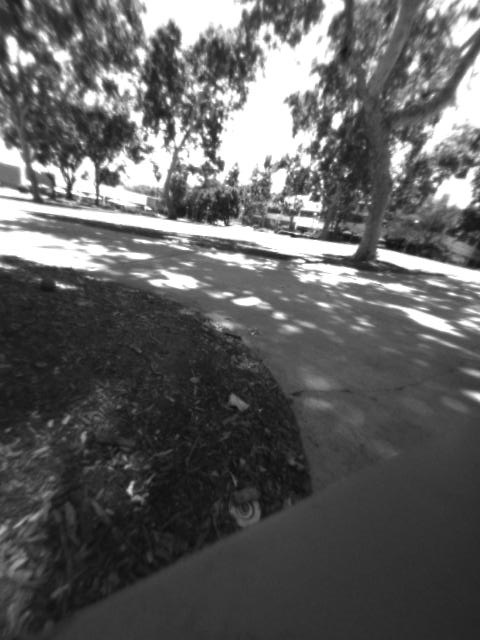dogtoy: (29, 264, 63, 298)
